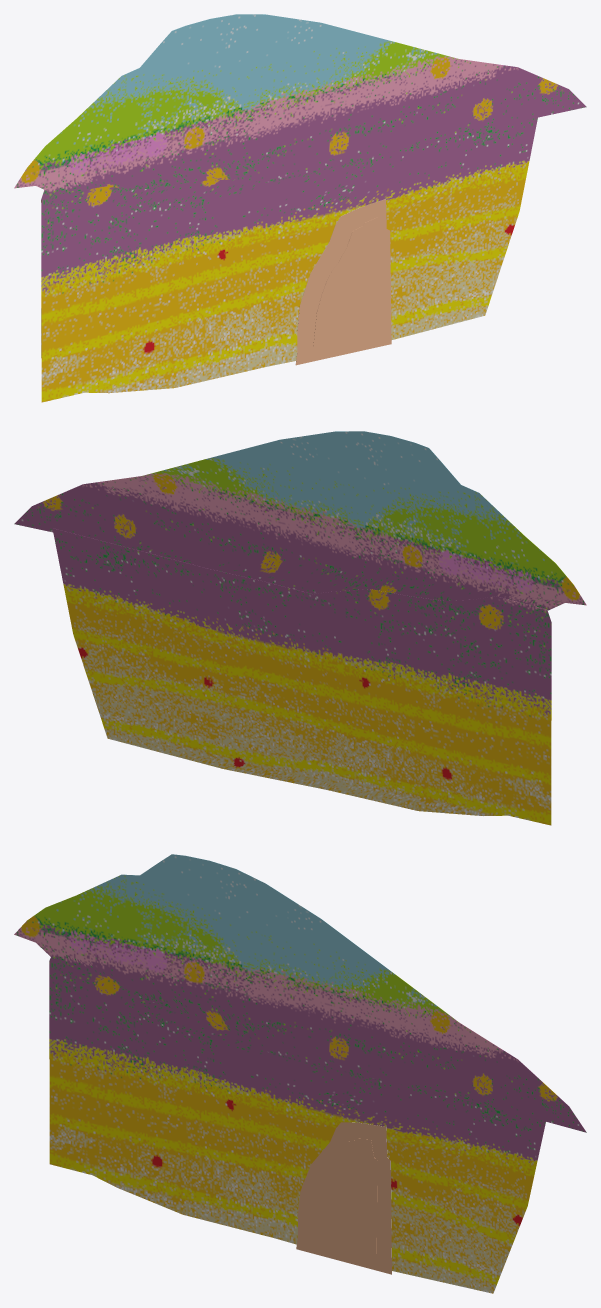
The model's file is village.fbx_village_house_1.fbx.
3 views of the same model, one above another, from view 1: azimuth 30°, elevation 25°; view 2: azimuth 150°, elevation 25°; view 3: azimuth 330°, elevation 25° (orthographic).
Parts seen in each view (by area): view 1: house.002, roof.002, door inside.001, door.002; view 2: house.002, roof.002; view 3: house.002, roof.002, door inside.001, door.002.
Boxes of the visible parts, x1,y1,x2,y2 form: house.002: (41,117,537,402); roof.002: (14,14,586,195); door inside.001: (313,217,383,353); door.002: (295,199,391,365); house.002: (52,528,551,825); roof.002: (14,431,586,610); house.002: (49,957,545,1293); roof.002: (14,854,586,1132); door inside.001: (307,1138,377,1262); door.002: (296,1122,391,1274).
Bounding box in the file's own units: 3087 × 1905 × 68.5.
